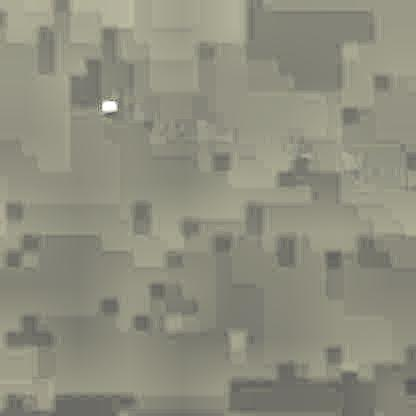golfball: (99, 98, 115, 112)
